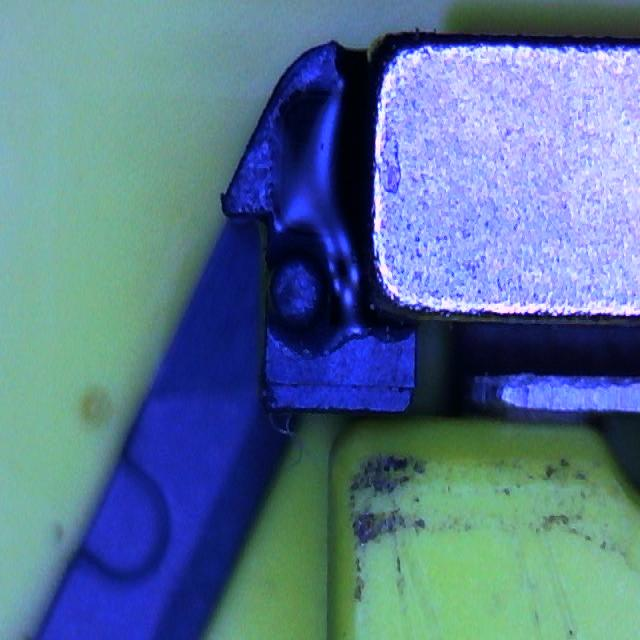over: (272, 70, 372, 357)
